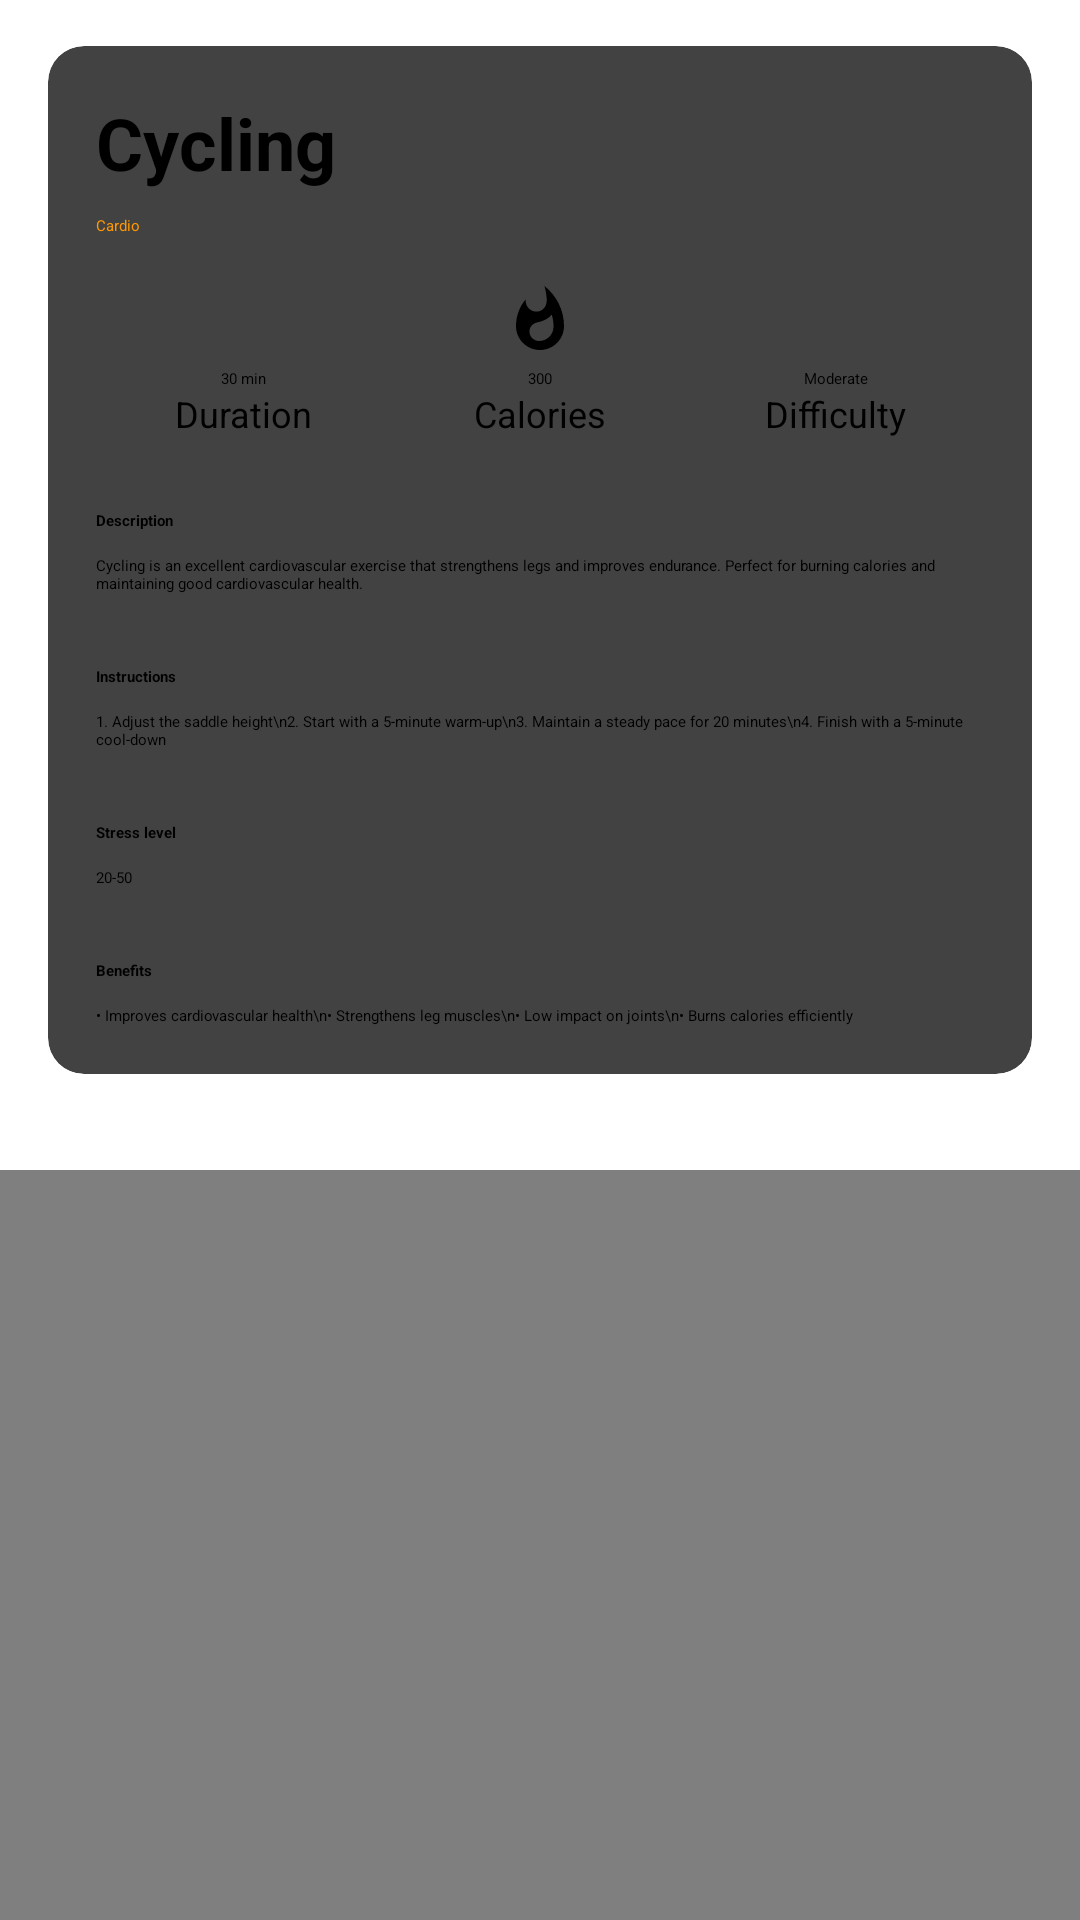

Where to tap for icons on this 1080 x 1920 app screen, as (x=x, y=y):
fire: (x=540, y=318)
